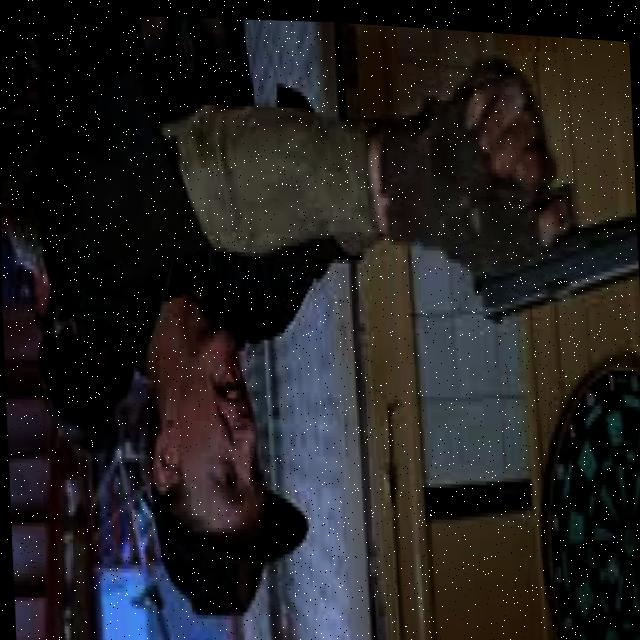pistol: (468, 168, 640, 328)
